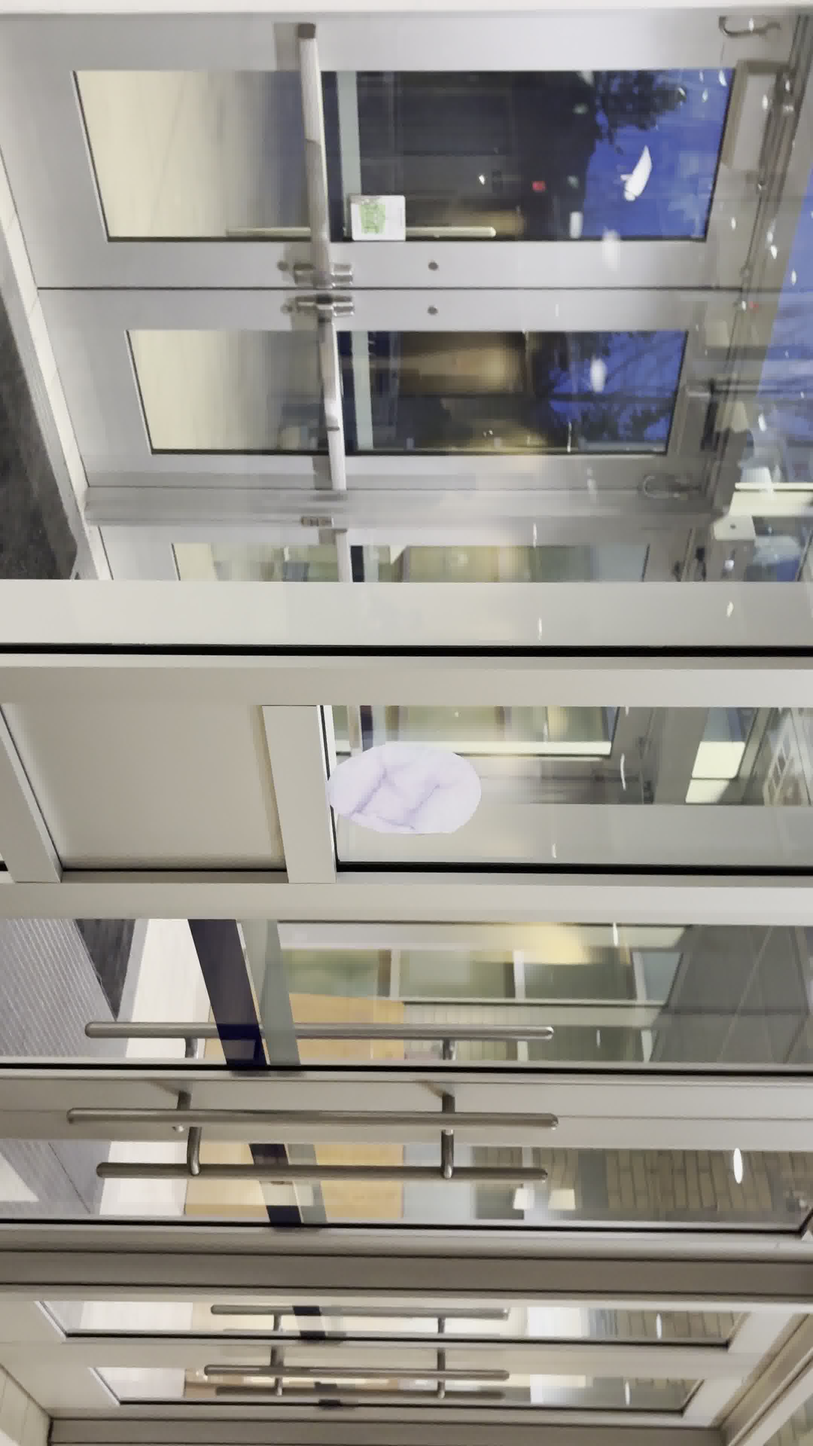Target: (324, 740, 483, 836)
